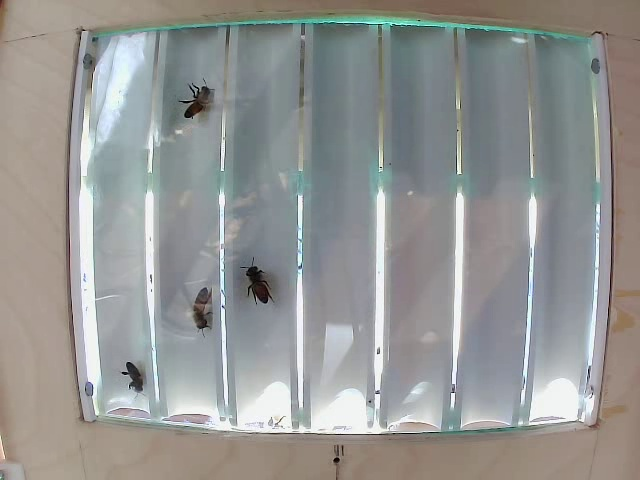bee: (235, 254, 281, 310), (184, 296, 228, 339), (181, 92, 212, 125), (113, 366, 146, 396)
